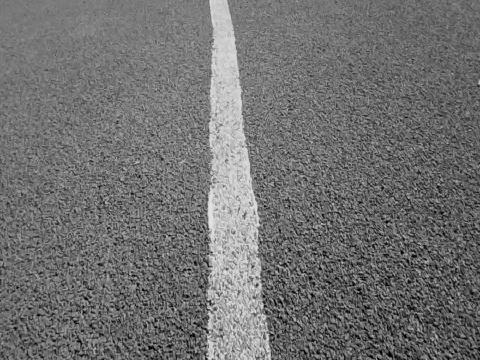Lines: (206, 0, 274, 360)
